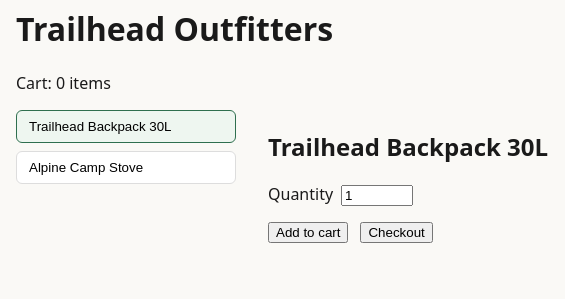
it: App › switches the detail panel when a different product is selected
Click the button "Alpine Camp Stove" at (126, 167), box [16, 151, 236, 184]
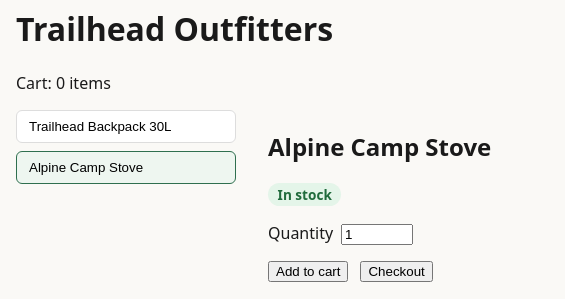
Check: the heading "Alpine Camp Stove" is shown, box [268, 130, 491, 163]
